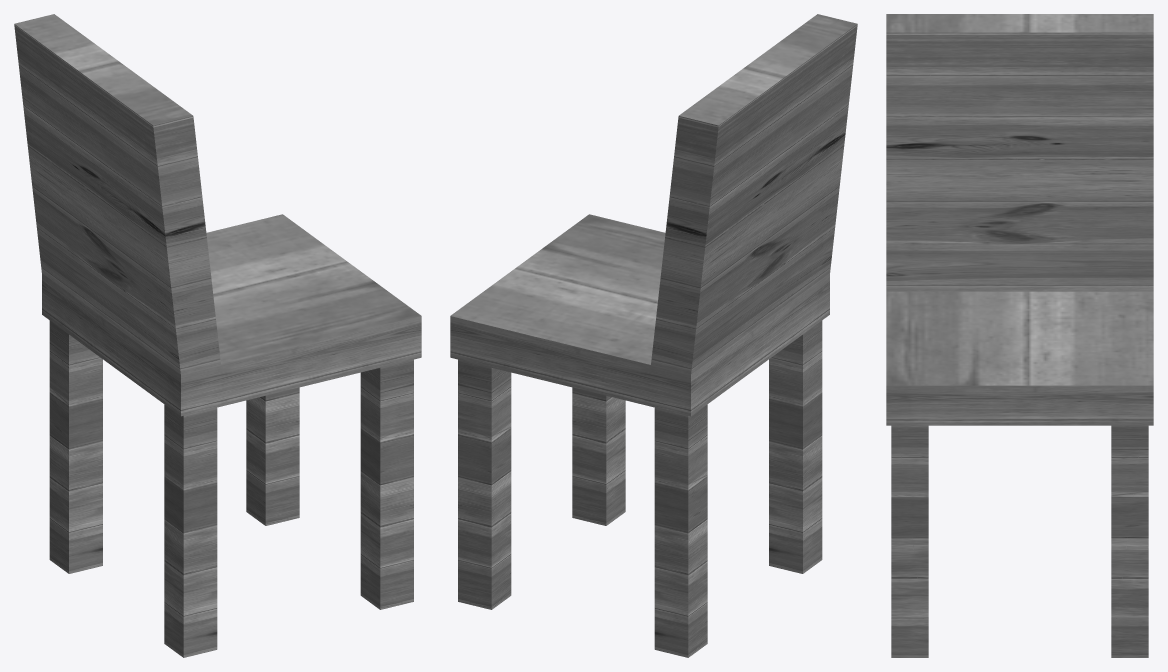
Rendered from chair.fbx.
3 views of the same model, side by side, from view 1: azimuth 30°, elevation 25°; view 2: azimuth 150°, elevation 25°; view 3: azimuth 270°, elevation 25° (orthographic). The views are drawn at different scales.
Parts seen in each view (by area): view 1: Cube.002; view 2: Cube.002; view 3: Cube.002.
Part boxes in pixels (x1,y1,x2,y2): Cube.002: [14, 14, 421, 657]; Cube.002: [450, 14, 857, 657]; Cube.002: [886, 14, 1153, 657].
Bounding box in the file's own units: 158 × 306 × 142.
